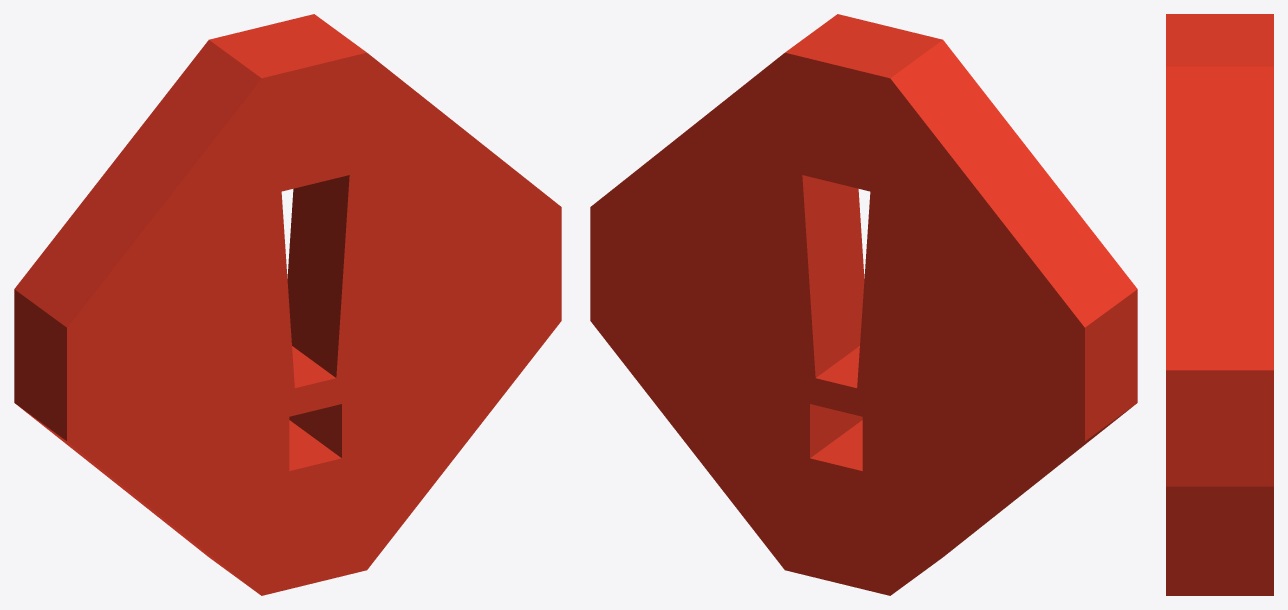
File: Icon_Symbol_ExclamationMark_03.fbx
3 views of the same model, side by side, from view 1: azimuth 30°, elevation 25°; view 2: azimuth 150°, elevation 25°; view 3: azimuth 270°, elevation 25° (orthographic). The views are drawn at different scales.
Visible parts, largest first — view 1: Icon_Symbol_ExclamationMark_03; view 2: Icon_Symbol_ExclamationMark_03; view 3: Icon_Symbol_ExclamationMark_03.
Boxes of the visible parts, x1,y1,x2,y2 form: Icon_Symbol_ExclamationMark_03: (14,14,561,595); Icon_Symbol_ExclamationMark_03: (590,14,1137,595); Icon_Symbol_ExclamationMark_03: (1166,14,1273,595).
Size of the model in its own units: 65.26 by 65.26 by 12.06.
